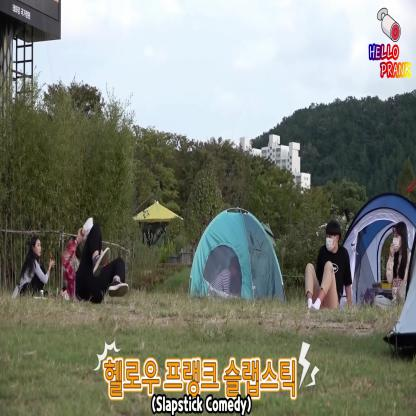Fall_Down: (63, 222, 129, 309)
